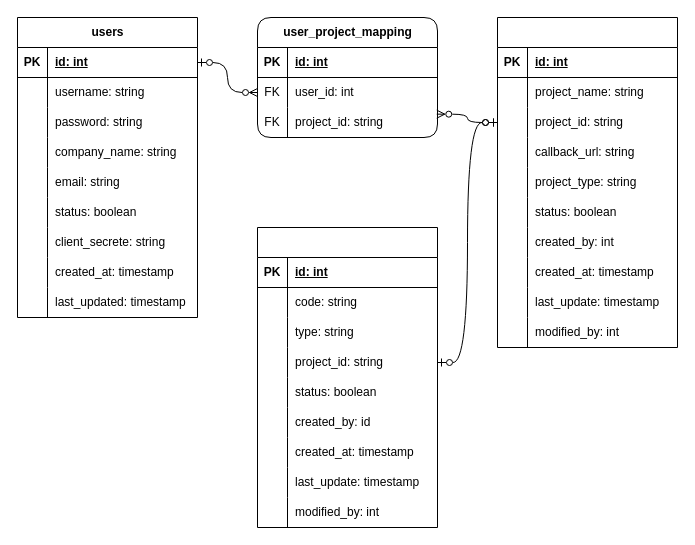
The diagram is 695 pixels wide and 545 high, and some of its shapes have lost their labels. The shapes that lost their labels are listed below. From the top down, each one's box as (x1, y1, x2, y2) in pixels, then its label:
(496, 16, 678, 348): projects
(256, 226, 438, 528): ussd_short_codes
